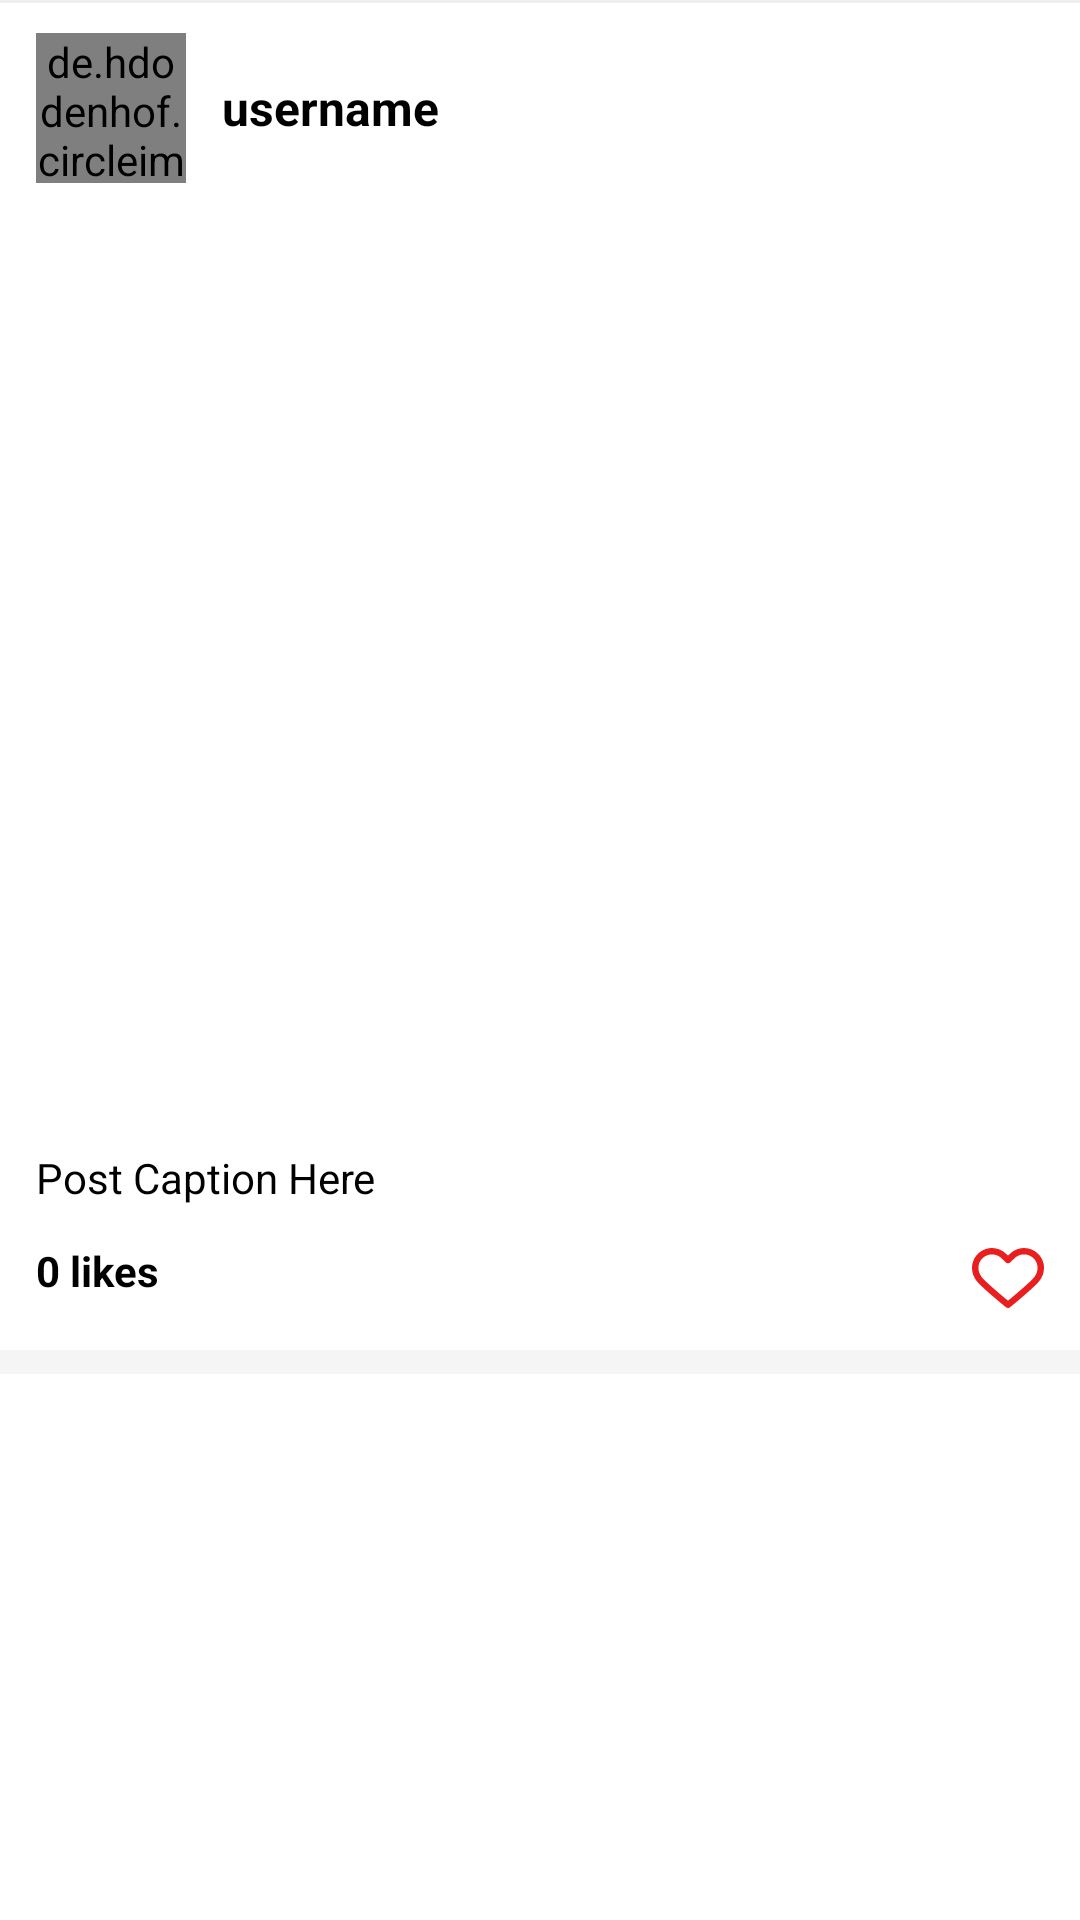

Where to tap for icons on this 1080*1920 app screen, as point (x, y):
empty heart: point (1008, 1278)
